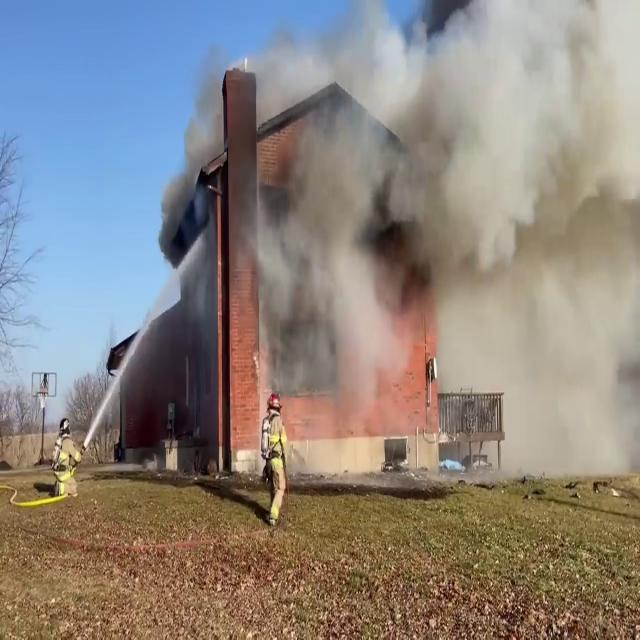Smoke: (258, 0, 640, 421)
